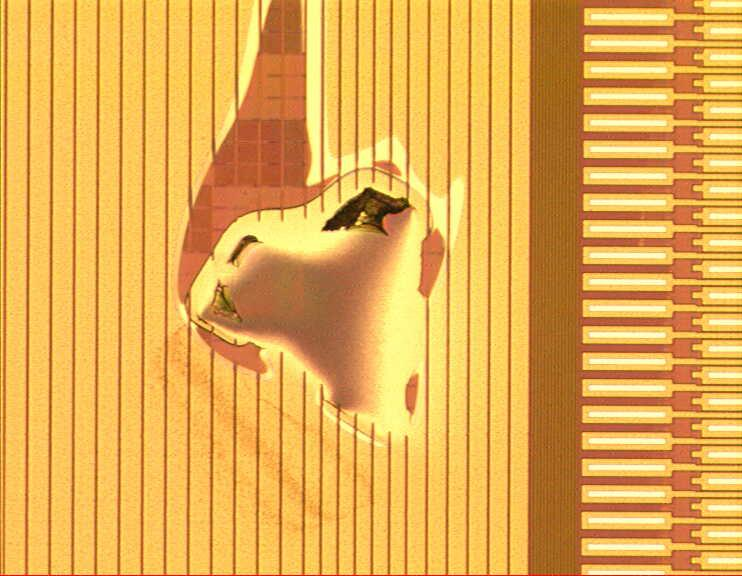BLOCK ETCH: (175, 1, 471, 448)
